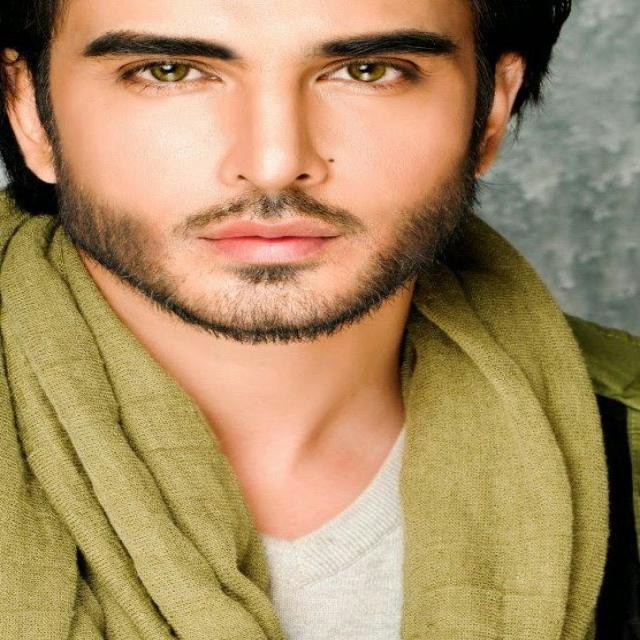front: (95, 0, 469, 318)
